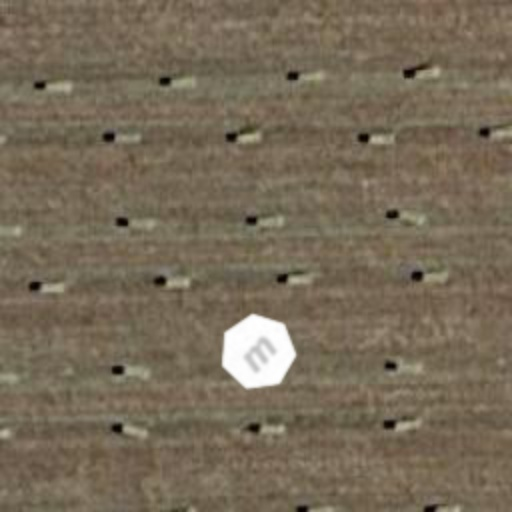heptagon: (202, 296, 314, 408)
